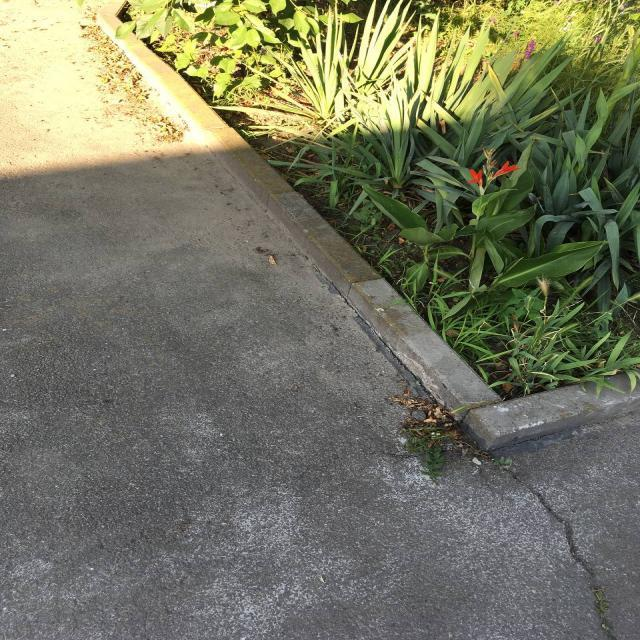bump: (405, 357, 639, 452), (382, 332, 486, 414)
